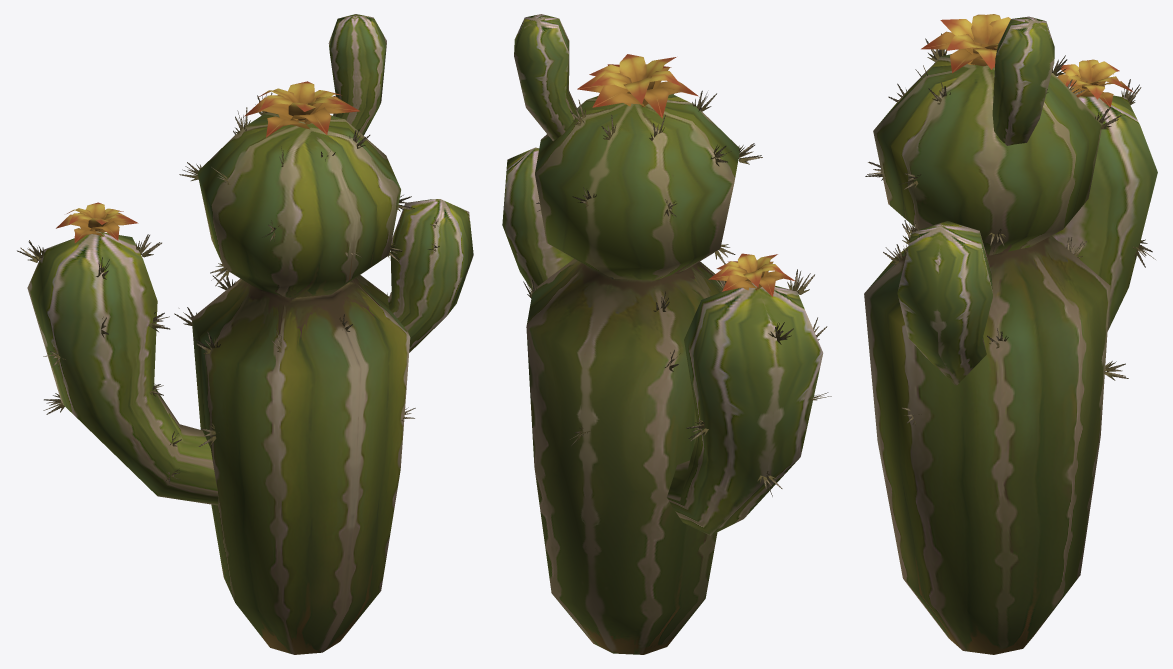
File: Map_11_plant02.FBX
The picture shows the model from 3 angles, left to right: view 1: azimuth 30°, elevation 25°; view 2: azimuth 150°, elevation 25°; view 3: azimuth 270°, elevation 25°; orthographic projection. The views are drawn at different scales.
Parts seen in each view (by area): view 1: Map_11_plant02a, Map_11_plant02b; view 2: Map_11_plant02a, Map_11_plant02b; view 3: Map_11_plant02a, Map_11_plant02b.
Boxes of the visible parts, left/top/right/bottom form: Map_11_plant02a: left=27, top=14, right=473, bottom=654; Map_11_plant02b: left=17, top=92, right=439, bottom=483; Map_11_plant02a: left=502, top=14, right=823, bottom=654; Map_11_plant02b: left=523, top=90, right=831, bottom=496; Map_11_plant02a: left=864, top=14, right=1157, bottom=654; Map_11_plant02b: left=865, top=33, right=1155, bottom=425.
Size of the model in its own units: 234 by 144 by 353.
